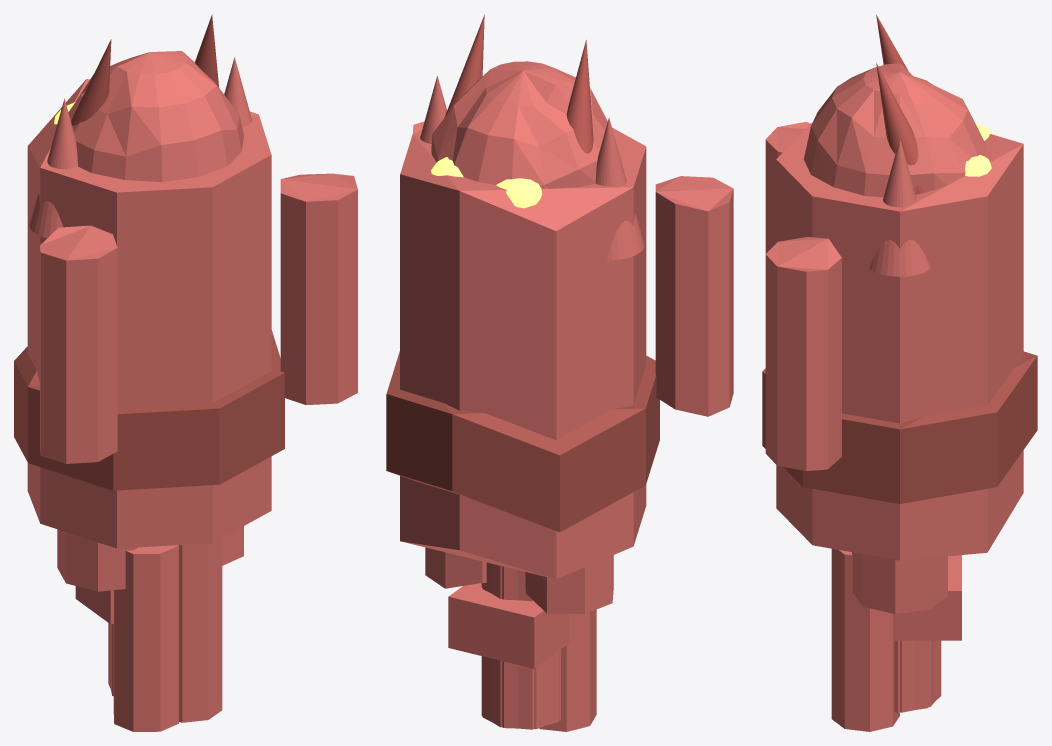
Rendered from enemy_infected_v2.glb.
The picture shows the model from 3 angles, left to right: view 1: azimuth 30°, elevation 25°; view 2: azimuth 150°, elevation 25°; view 3: azimuth 270°, elevation 25°; orthographic projection. The views are drawn at different scales.
Parts seen in each view (by area): view 1: torso, belt, upper_arm_l, upper_arm_r, head, forearm_r, forearm_l, thigh_l, ear_l, horn_l, foot_l, ear_r (+2 smaller); view 2: torso, belt, upper_arm_l, head, foot_l, forearm_r, thigh_l, shin_l, shin_r, ear_l, thigh_r, horn_l (+3 smaller); view 3: torso, belt, upper_arm_r, head, forearm_l, thigh_r, ear_r, foot_l, upper_arm_l, shin_r, horn_r, shin_l (+2 smaller).
Boxes of the visible parts, x1,y1,x2,y2 form: torso: (27,79,271,548); belt: (14,330,284,490); upper_arm_l: (40,225,117,463); upper_arm_r: (280,173,357,404); head: (68,51,243,182); forearm_r: (113,545,178,731); forearm_l: (179,538,222,722); thigh_l: (57,529,137,591); ear_l: (29,98,77,238); horn_l: (71,39,111,125); foot_l: (75,586,113,624); ear_r: (224,57,251,126); torso: (400,127,646,579); belt: (386,351,659,532); upper_arm_l: (655,176,733,416); head: (431,61,607,188); foot_l: (448,583,569,668); forearm_r: (539,609,596,731); thigh_l: (525,555,613,613); shin_l: (482,562,561,729); shin_r: (481,563,559,729); ear_l: (595,117,644,260); thigh_r: (425,547,486,588); horn_l: (566,40,593,185); torso: (776,122,1023,560); belt: (762,351,1037,503); upper_arm_r: (765,237,841,470); head: (803,63,987,197); forearm_l: (831,548,899,731); thigh_r: (852,552,947,613); ear_r: (869,138,930,276); foot_l: (893,555,961,640); upper_arm_l: (765,122,810,253); shin_r: (894,640,941,712); horn_r: (876,63,929,194); shin_l: (900,640,935,712).
Bounding box in the file's own units: 0.5161 × 1.07 × 0.4.
